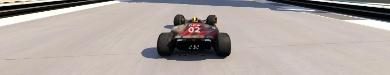Car: (156, 13, 231, 56)
